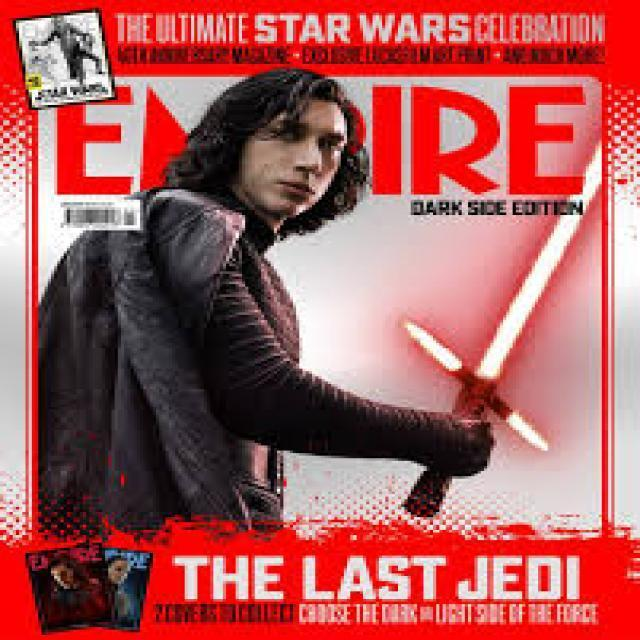cardboard: (2, 1, 637, 636)
